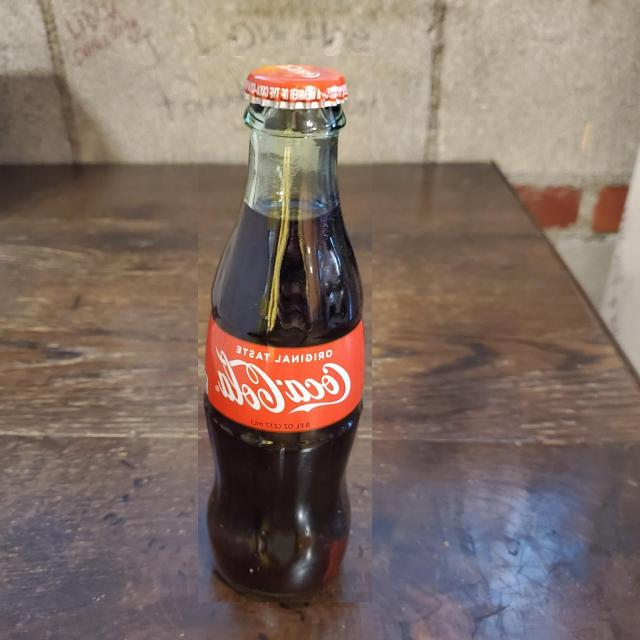coca-cola: (198, 56, 372, 602)
